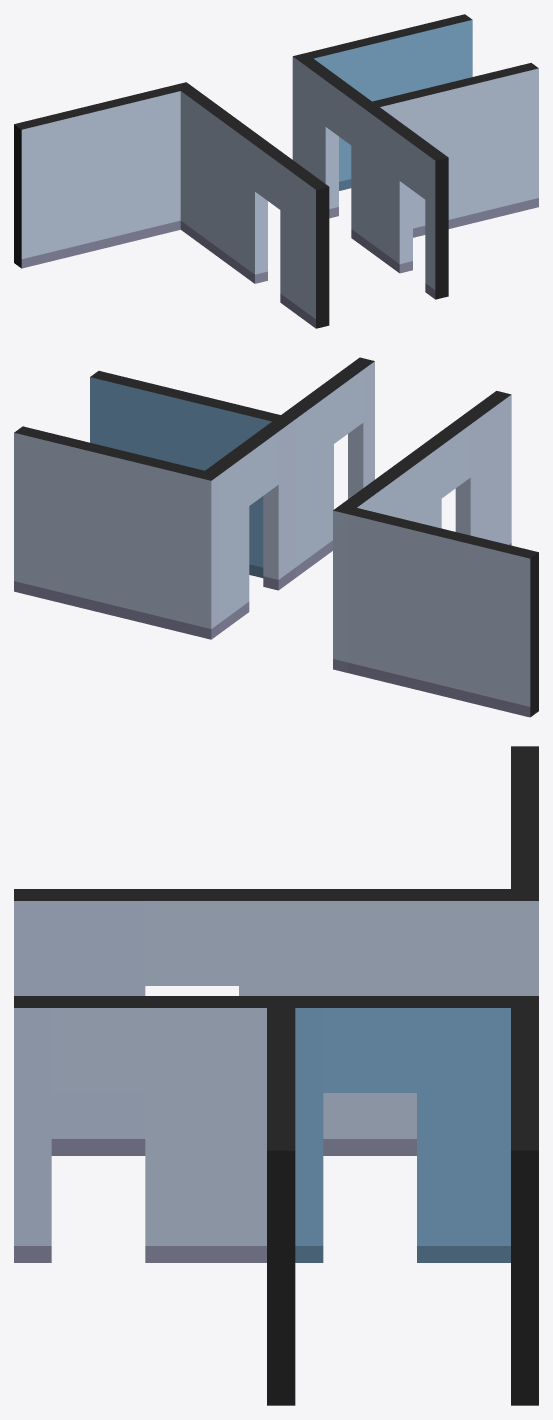
Rendered from SGC_house_walls.fbx.
The picture shows the model from 3 angles, top to bottom: view 1: azimuth 30°, elevation 25°; view 2: azimuth 150°, elevation 25°; view 3: azimuth 270°, elevation 25°; orthographic projection. The views are drawn at different scales.
Parts seen in each view (by area): view 1: SC_house_living_matt.sepp.wall, SC_house_matt_room.entr.wall, SC_house_bath_child.sepp.wall, SC_house_child_room.entr.wall, SC_house_living_bath.sepp.wall, SC_house_bath_room.entr.wall, SC_house_living_matt.sepp.wall.D, SC_house_matt_room.entr.wall.D, SC_house_bath_child.sepp.wall.D, SC_house_child_room.entr.wall.D; view 2: SC_house_living_bath.sepp.wall, SC_house_living_matt.sepp.wall, SC_house_matt_room.entr.wall, SC_house_bath_child.sepp.wall, SC_house_bath_room.entr.wall, SC_house_child_room.entr.wall, SC_house_living_bath.sepp.wall.D, SC_house_living_matt.sepp.wall.D, SC_house_bath_room.entr.wall.D; view 3: SC_house_matt_room.entr.wall, SC_house_child_room.entr.wall, SC_house_bath_room.entr.wall, SC_house_bath_child.sepp.wall, SC_house_living_bath.sepp.wall, SC_house_living_matt.sepp.wall, SC_house_matt_room.entr.wall.D, SC_house_child_room.entr.wall.D, SC_house_bath_room.entr.wall.D.
Boxes of the visible parts, x1,y1,x2,y2 form: SC_house_living_matt.sepp.wall: [14, 85, 180, 259]; SC_house_matt_room.entr.wall: [173, 82, 329, 319]; SC_house_bath_child.sepp.wall: [372, 63, 538, 228]; SC_house_child_room.entr.wall: [366, 107, 448, 290]; SC_house_living_bath.sepp.wall: [292, 14, 472, 181]; SC_house_bath_room.entr.wall: [300, 58, 379, 239]; SC_house_living_matt.sepp.wall.D: [14, 220, 180, 268]; SC_house_matt_room.entr.wall.D: [180, 221, 329, 328]; SC_house_bath_child.sepp.wall.D: [413, 198, 538, 237]; SC_house_child_room.entr.wall.D: [366, 240, 448, 299]; SC_house_living_bath.sepp.wall: [14, 426, 219, 628]; SC_house_living_matt.sepp.wall: [348, 508, 538, 706]; SC_house_matt_room.entr.wall: [333, 391, 511, 662]; SC_house_bath_child.sepp.wall: [90, 371, 280, 567]; SC_house_bath_room.entr.wall: [205, 415, 295, 622]; SC_house_child_room.entr.wall: [281, 357, 374, 566]; SC_house_living_bath.sepp.wall.D: [14, 581, 219, 639]; SC_house_living_matt.sepp.wall.D: [348, 662, 538, 717]; SC_house_bath_room.entr.wall.D: [220, 567, 295, 632]; SC_house_matt_room.entr.wall: [14, 889, 538, 1138]; SC_house_child_room.entr.wall: [14, 996, 266, 1245]; SC_house_bath_room.entr.wall: [267, 996, 510, 1245]; SC_house_bath_child.sepp.wall: [267, 1008, 295, 1388]; SC_house_living_bath.sepp.wall: [511, 996, 538, 1388]; SC_house_living_matt.sepp.wall: [511, 746, 538, 888]; SC_house_matt_room.entr.wall.D: [51, 1139, 416, 1155]; SC_house_child_room.entr.wall.D: [14, 1246, 266, 1262]; SC_house_bath_room.entr.wall.D: [295, 1246, 510, 1262].
Size of the model in its own units: 10.2 by 5.6 by 3.
